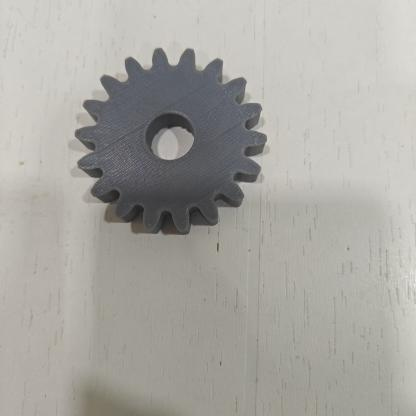gear: (64, 33, 293, 253)
